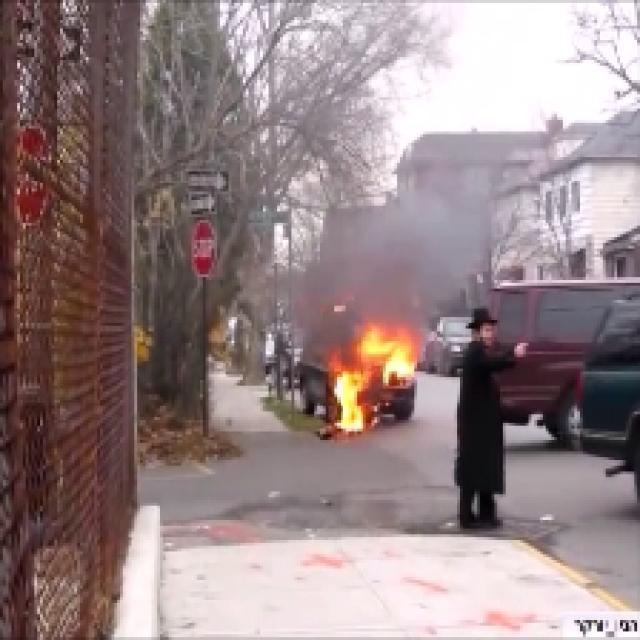Fire: (303, 312, 443, 448)
Smoke: (294, 154, 537, 309)
